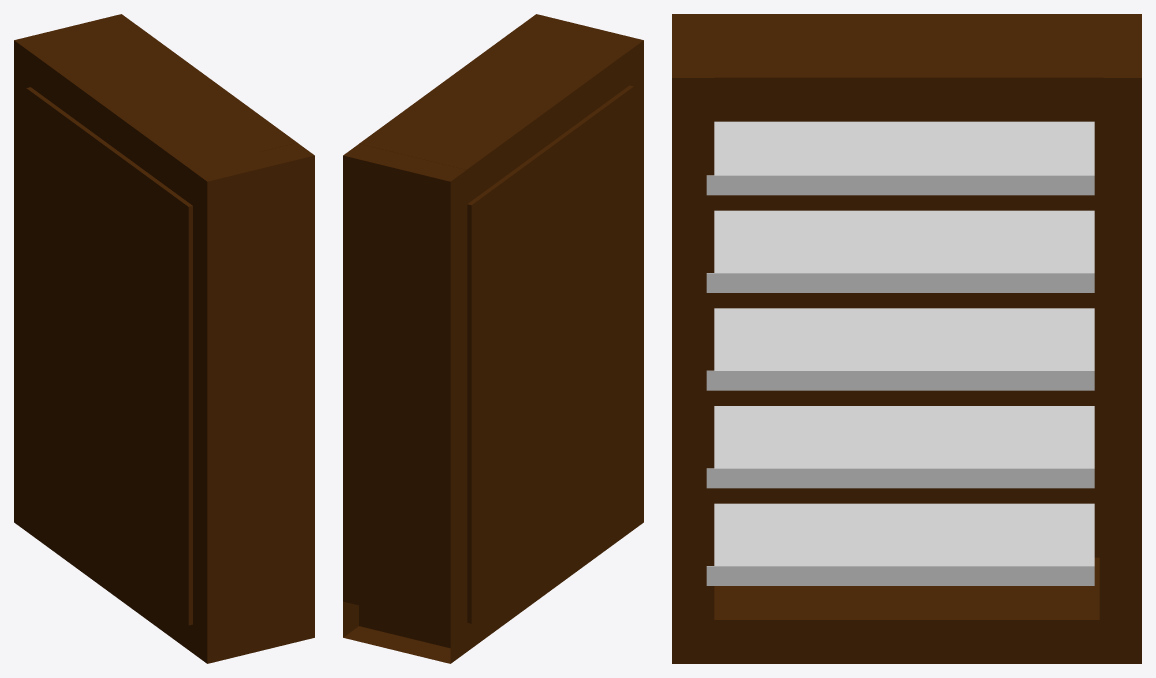
The model's file is Bookcase.FBX.
3 views of the same model, side by side, from view 1: azimuth 30°, elevation 25°; view 2: azimuth 150°, elevation 25°; view 3: azimuth 270°, elevation 25° (orthographic). The views are drawn at different scales.
Parts seen in each view (by area): view 1: Box008, Object, Box002, Object001, Box001; view 2: Box008, Object001, Box002, Object, Box001; view 3: Box002, Box004, Box005, Box003, Box006, Box001, Box007, Object001, Object, Box008.
Boxes of the visible parts, x1,y1,x2,y2 form: Box008: [26, 87, 192, 625]; Object: [190, 143, 314, 663]; Box002: [30, 25, 297, 203]; Object001: [14, 14, 136, 534]; Box001: [30, 510, 189, 650]; Box008: [467, 85, 633, 623]; Object001: [343, 144, 467, 663]; Box002: [359, 26, 626, 205]; Object: [519, 14, 643, 534]; Box001: [359, 510, 626, 651]; Box002: [714, 14, 1103, 121]; Box004: [706, 406, 1094, 488]; Box005: [706, 308, 1094, 390]; Box003: [706, 503, 1094, 585]; Box006: [706, 210, 1094, 292]; Box001: [714, 557, 1103, 663]; Box007: [706, 121, 1094, 195]; Object001: [1099, 14, 1141, 663]; Object: [672, 14, 714, 663]; Box008: [714, 121, 1099, 557].
Bounding box in the file's own units: 11.55 × 47.25 × 34.33.
